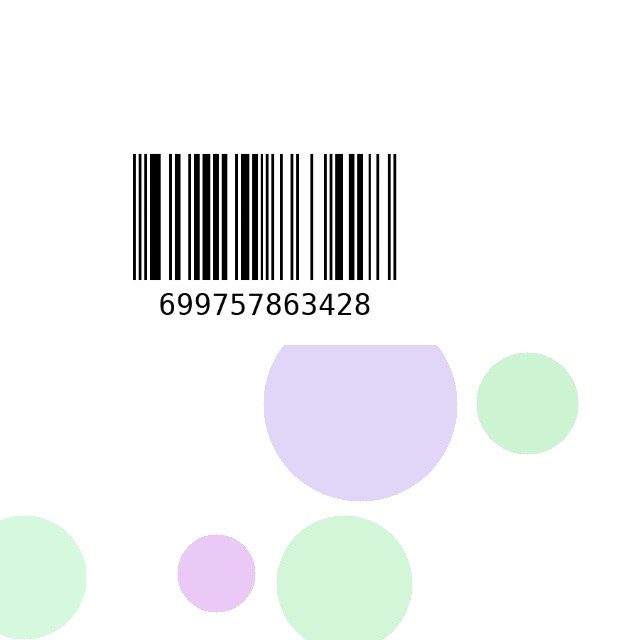barcode: (79, 146, 450, 345)
